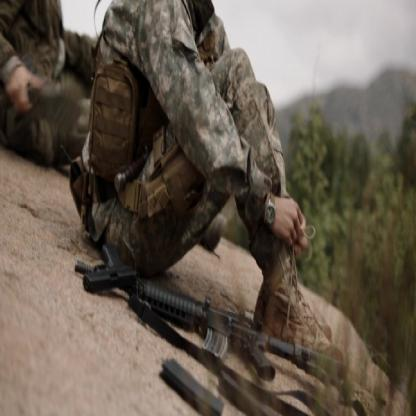Guns: (73, 239, 346, 400)
